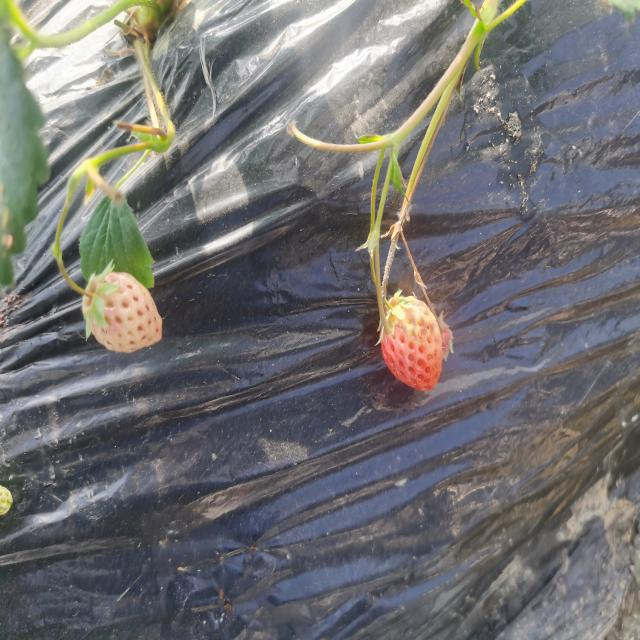strawberry: (380, 295, 442, 392)
